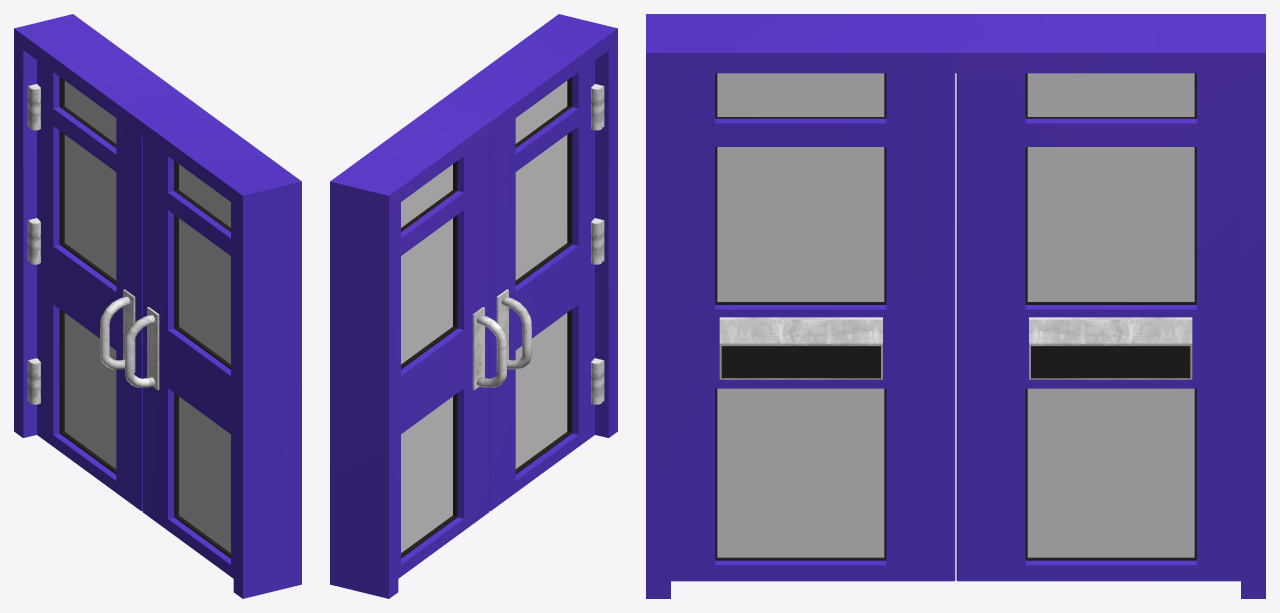
Rendered from Double Door Purple.fbx.
3 views of the same model, side by side, from view 1: azimuth 30°, elevation 25°; view 2: azimuth 150°, elevation 25°; view 3: azimuth 270°, elevation 25° (orthographic). The views are drawn at different scales.
Parts seen in each view (by area): view 1: NonBaked.035, NonBaked.002, NonBaked.003; view 2: NonBaked.035, NonBaked.003, NonBaked.002; view 3: NonBaked.002, NonBaked.003, NonBaked.035.
Boxes of the visible parts, left/top/right/bottom form: NonBaked.035: left=14, top=14, right=301, bottom=598; NonBaked.002: left=37, top=60, right=142, bottom=511; NonBaked.003: left=125, top=138, right=233, bottom=578; NonBaked.035: left=330, top=14, right=617, bottom=598; NonBaked.003: left=489, top=60, right=594, bottom=511; NonBaked.002: left=398, top=138, right=506, bottom=578; NonBaked.002: left=956, top=73, right=1240, bottom=581; NonBaked.003: left=671, top=73, right=955, bottom=581; NonBaked.035: left=646, top=14, right=1265, bottom=598.
Size of the model in its own units: 31.21 by 161 by 166.
